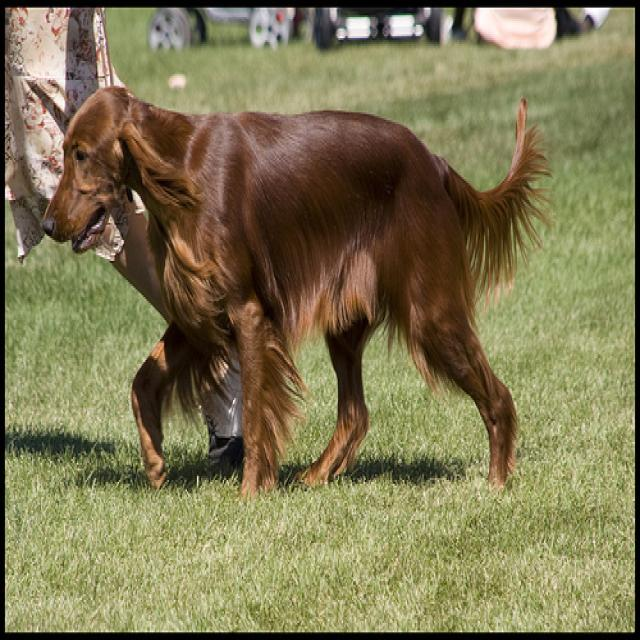dog: (42, 77, 555, 502)
